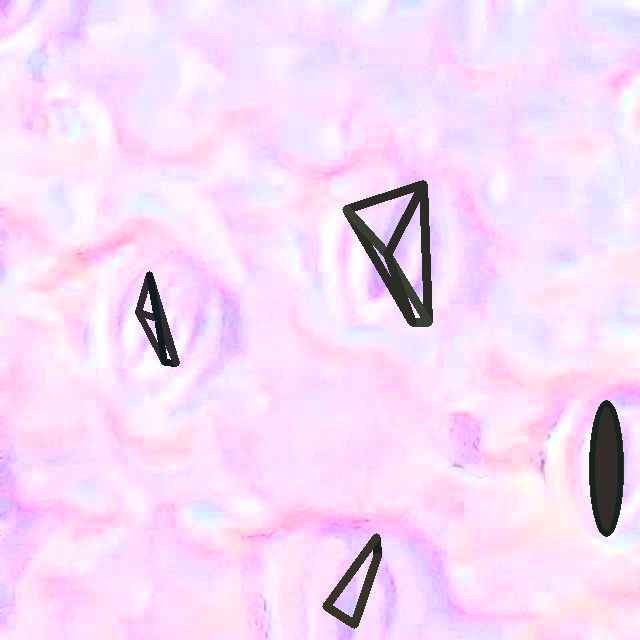open: (343, 181, 431, 326), (322, 533, 381, 628), (589, 400, 623, 535), (135, 271, 179, 364)
